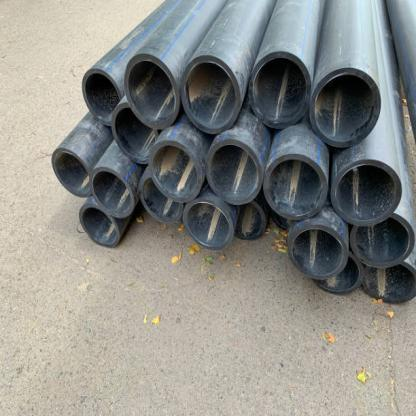pipe: (309, 67, 381, 146), (330, 159, 402, 226), (249, 51, 310, 128), (181, 56, 240, 134), (124, 53, 180, 130), (263, 154, 328, 220), (206, 139, 262, 205), (350, 213, 416, 268), (288, 224, 348, 279), (150, 140, 202, 203), (112, 102, 158, 165), (184, 199, 233, 250), (82, 68, 123, 126), (90, 166, 134, 218), (362, 262, 415, 304), (138, 176, 183, 224), (314, 251, 362, 294), (52, 148, 92, 197), (79, 204, 120, 248), (233, 201, 267, 240)
